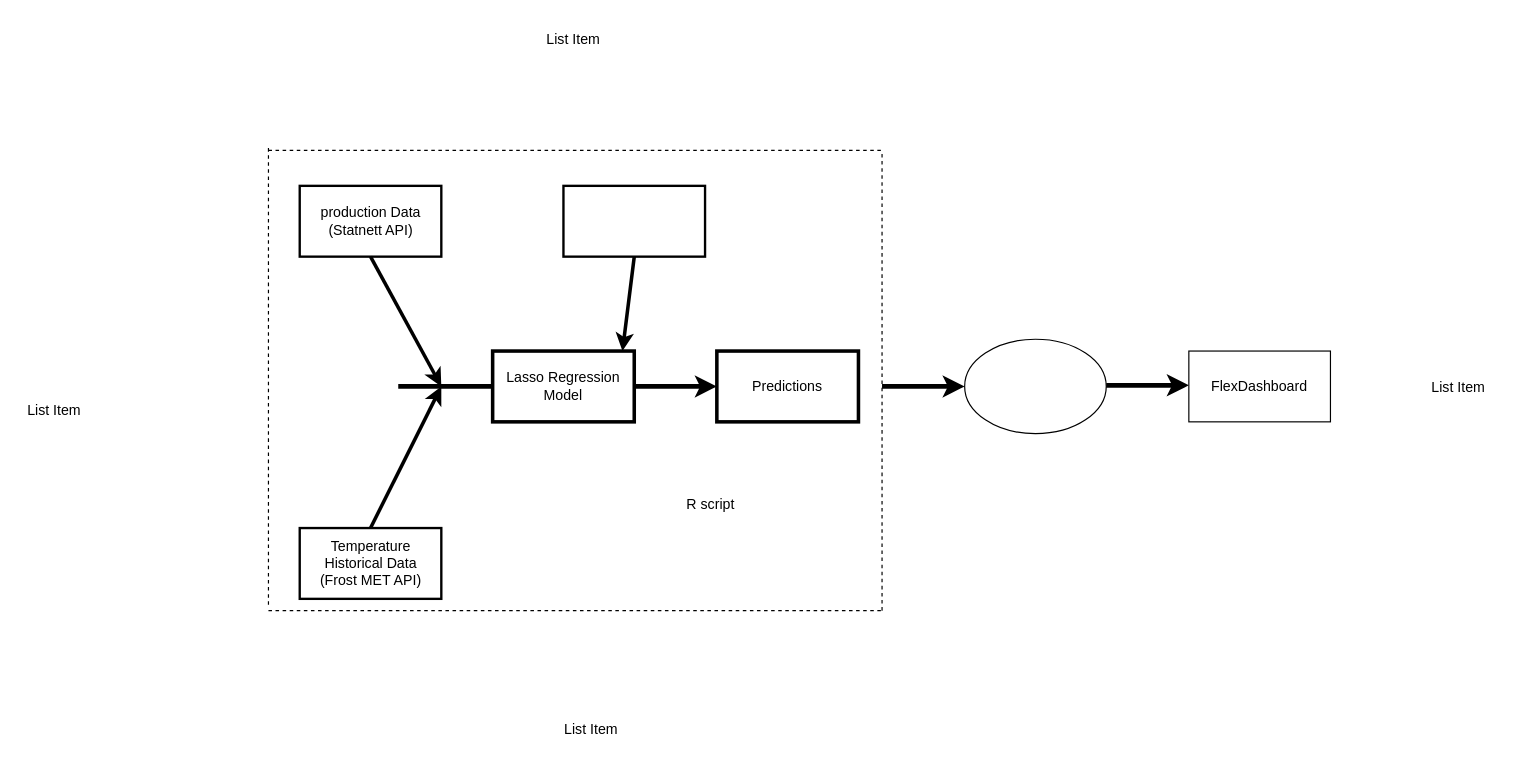
Image size: 1539x766. Some labels were removed from this diagram. The shapes that lost their labels are listed below. From the top down, each one's box as (x1, y1, x2, y2) in pixels, then its label:
(562, 184, 706, 257): Temperature Forecast (LocationForecast API MET)
(963, 338, 1106, 434): Github Action
